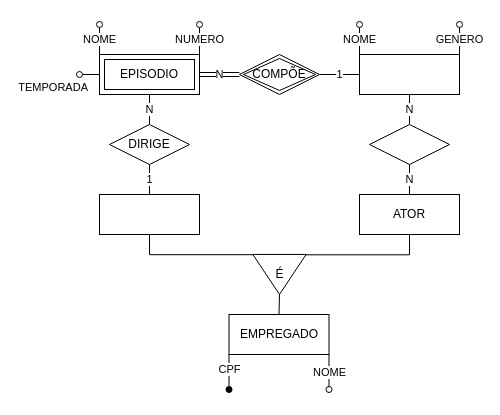
This 500x415 diagram has some shape labels left out. The centre of each missing label's shape, as x and y in pixels:
"DIRETOR" goes at point (149, 214).
"PARTICIPA" goes at point (409, 144).
"SERIE" goes at point (409, 74).
